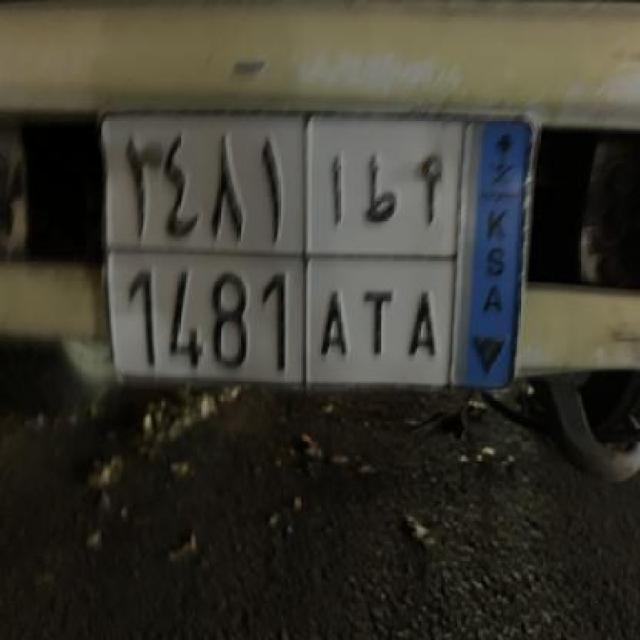license_plate: (96, 99, 542, 404)
